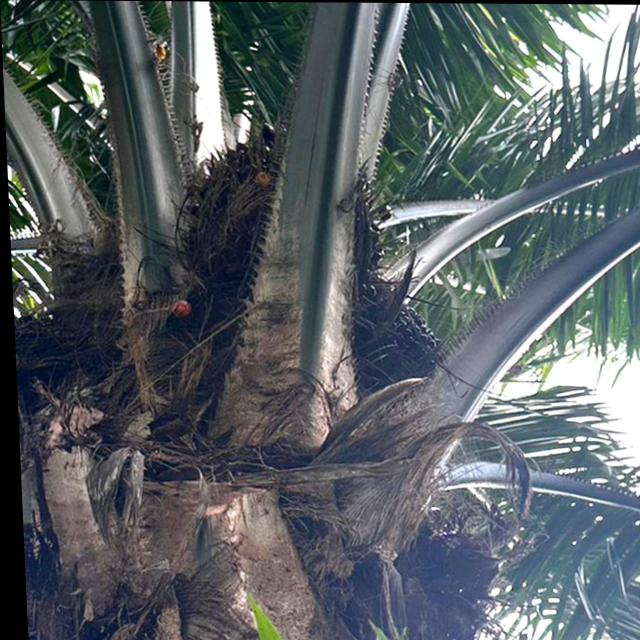unripe: (176, 114, 391, 339), (343, 298, 448, 399)
